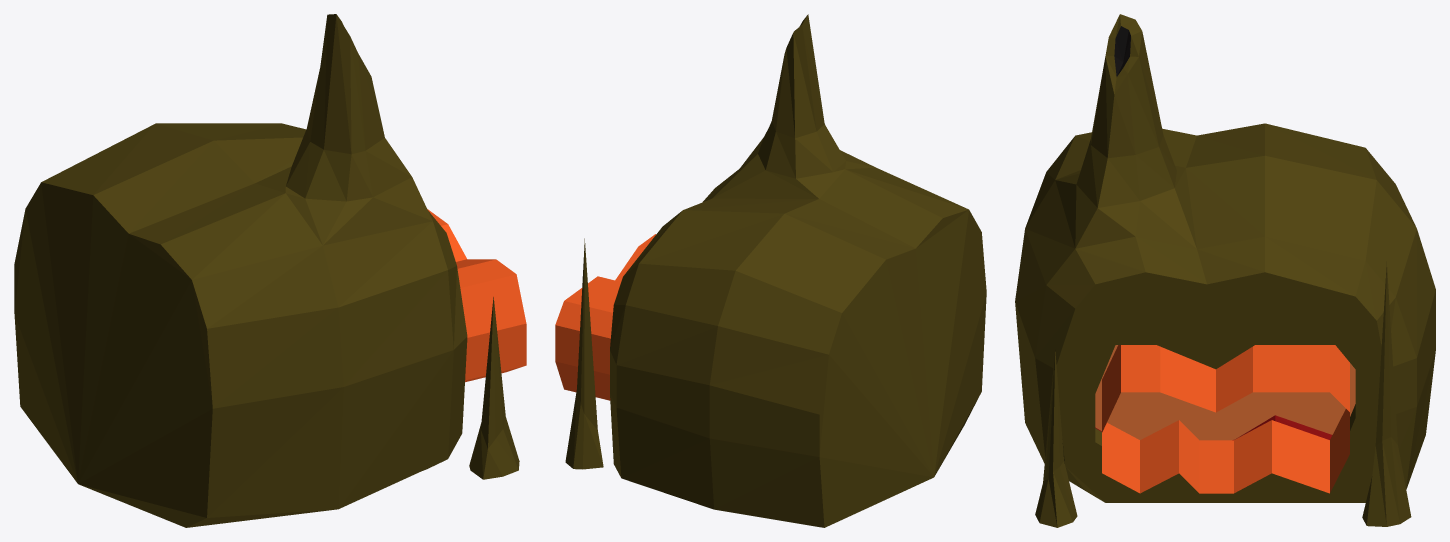
File: obj_furnace_6_0.obj
3 views of the same model, side by side, from view 1: azimuth 30°, elevation 25°; view 2: azimuth 150°, elevation 25°; view 3: azimuth 270°, elevation 25° (orthographic). The views are drawn at different scales.
Bounding box in the file's own units: 2.99 × 3.42 × 2.95.
